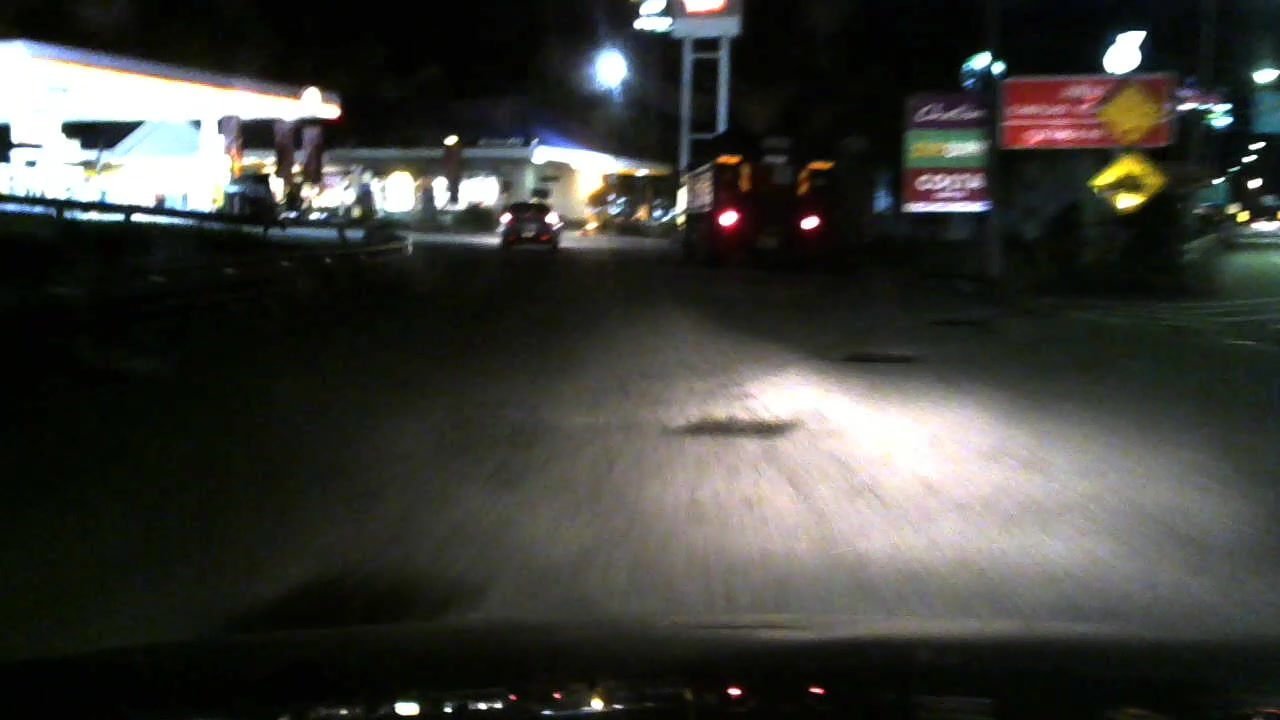Car: (493, 193, 573, 257)
